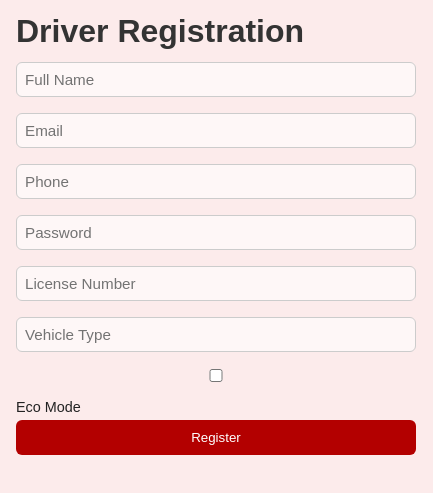
DriverRegistrationForm Component › shows error message when registration fails
Step 1. Type "Jane Doe" into the field with placeholder "Full Name" → (216, 80), box [16,62,416,97]
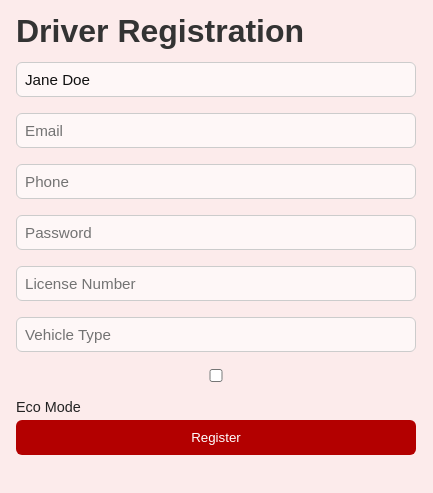
Step 2. Type "jane@example.com" into the field with placeholder "Email" → (216, 131), box [16,113,416,148]
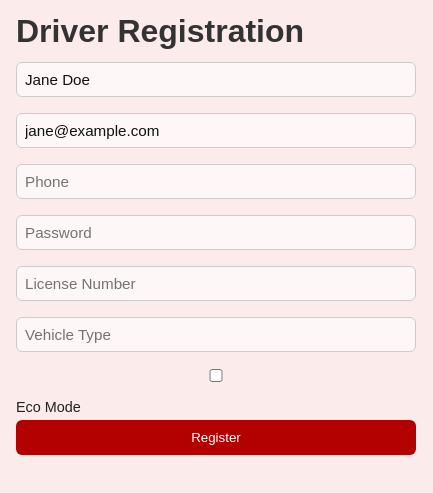
Step 3. Type "9998887777" into the field with placeholder "Phone" → (216, 182), box [16,164,416,199]
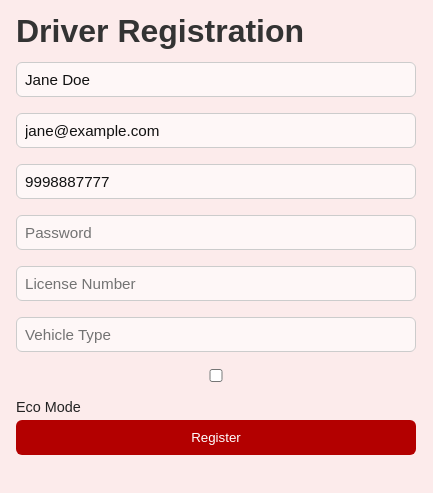
Step 4. Click the button "Register" → (216, 438), box [16,420,416,455]
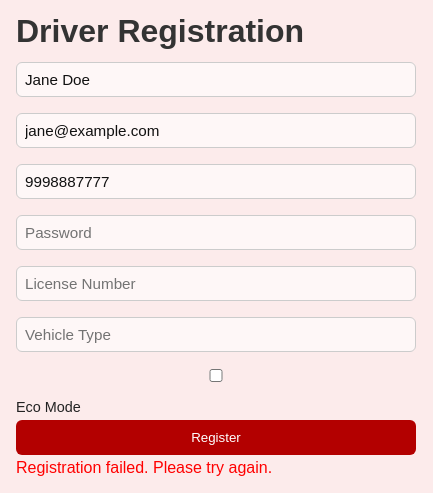
Check: the text "Registration failed. Please try again." is shown, box [16,459,272,476]
